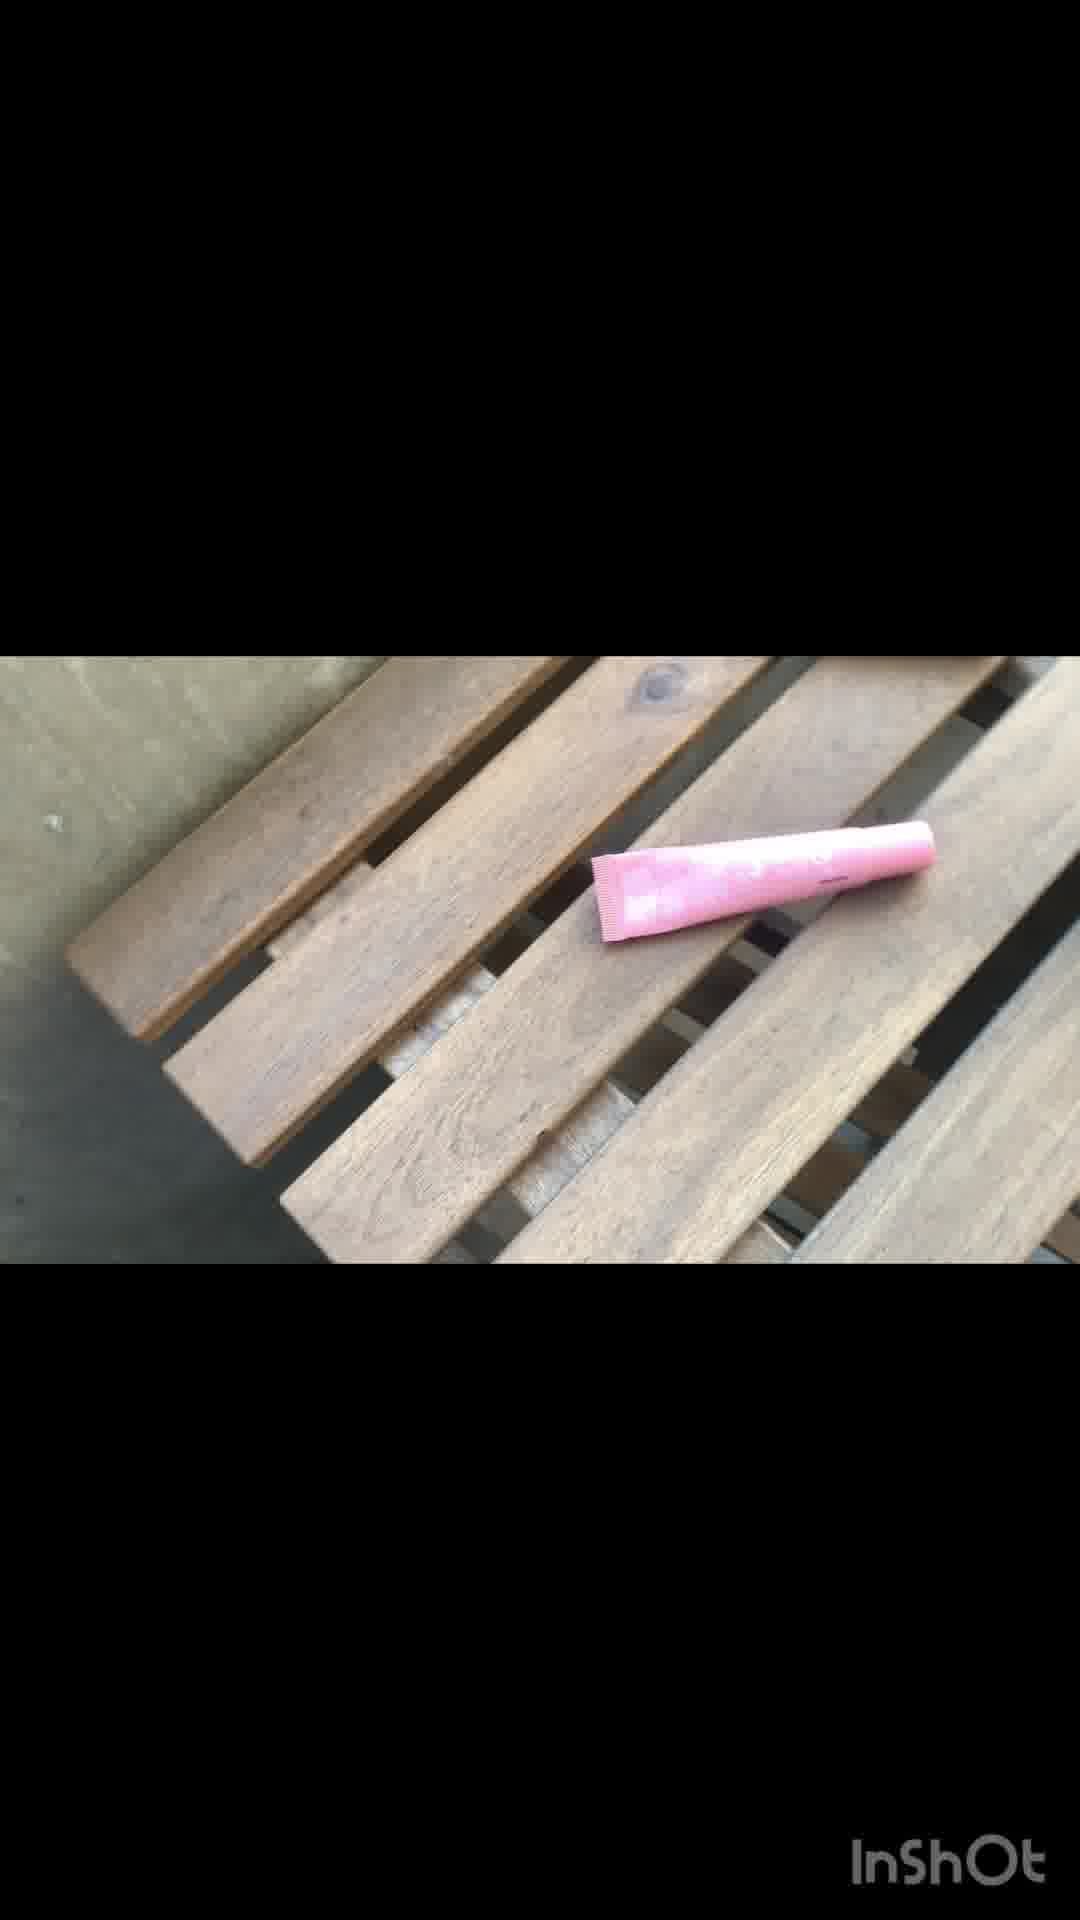lip balm: (578, 833, 936, 939)
